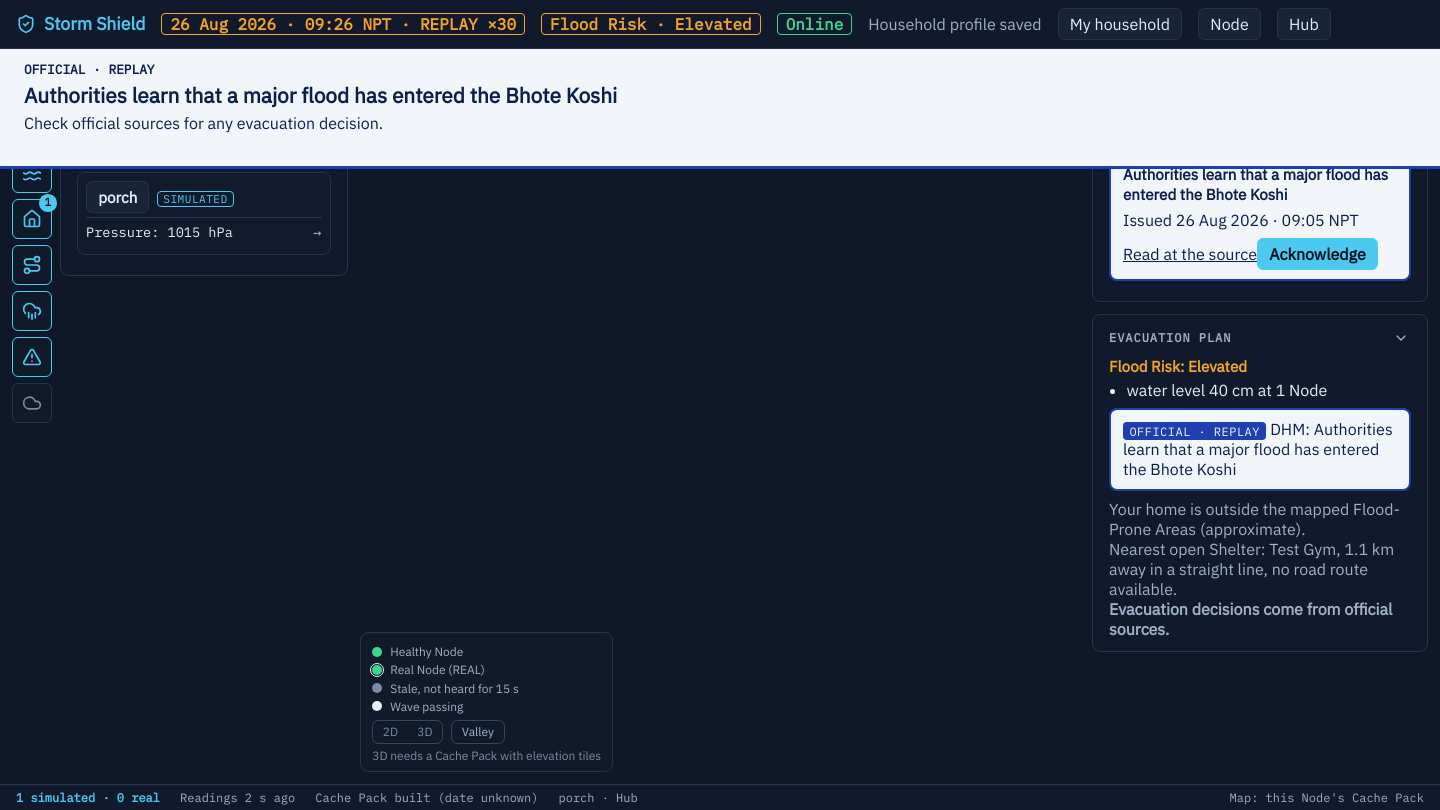
Test: on an unreachable Hub the Replay controls wait instead of offering Start
Expected: the text "Pressure: 1015 hPa" is shown, top-left (86, 223), bottom-right (233, 241)
Expected: the text "26 Aug 2026 · 09:26 NPT · REPLAY ×30" is shown, top-left (161, 13), bottom-right (525, 35)
What coordinates should you click on to do the following:
click the button "Hub"
I would click on:
 (1304, 24)
Its box is top-left (1277, 8), bottom-right (1331, 40).
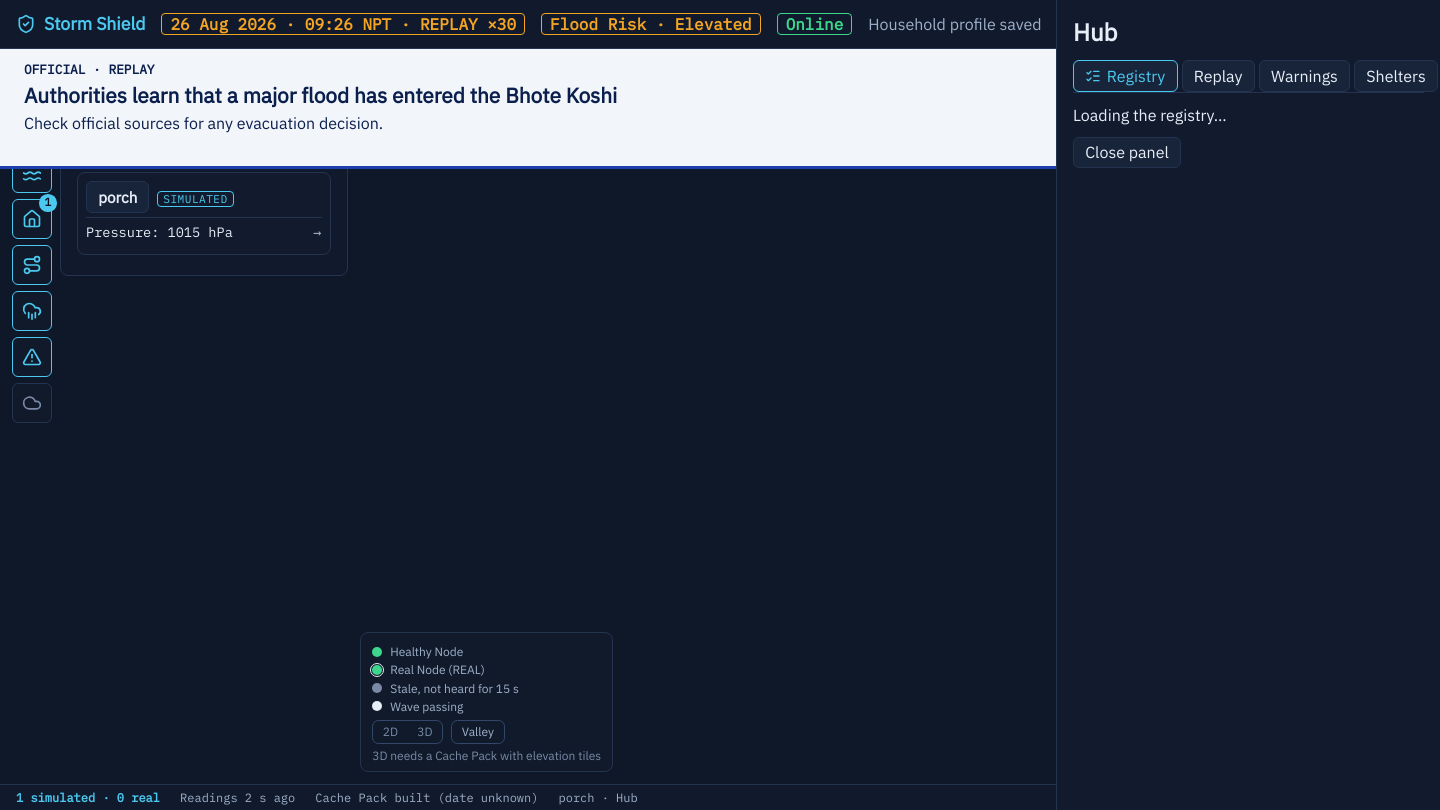
What coordinates should you click on to do the following:
click the tab "Replay"
I would click on:
 (1218, 76)
Its box is top-left (1182, 60), bottom-right (1255, 92).
Wait 6000 ms
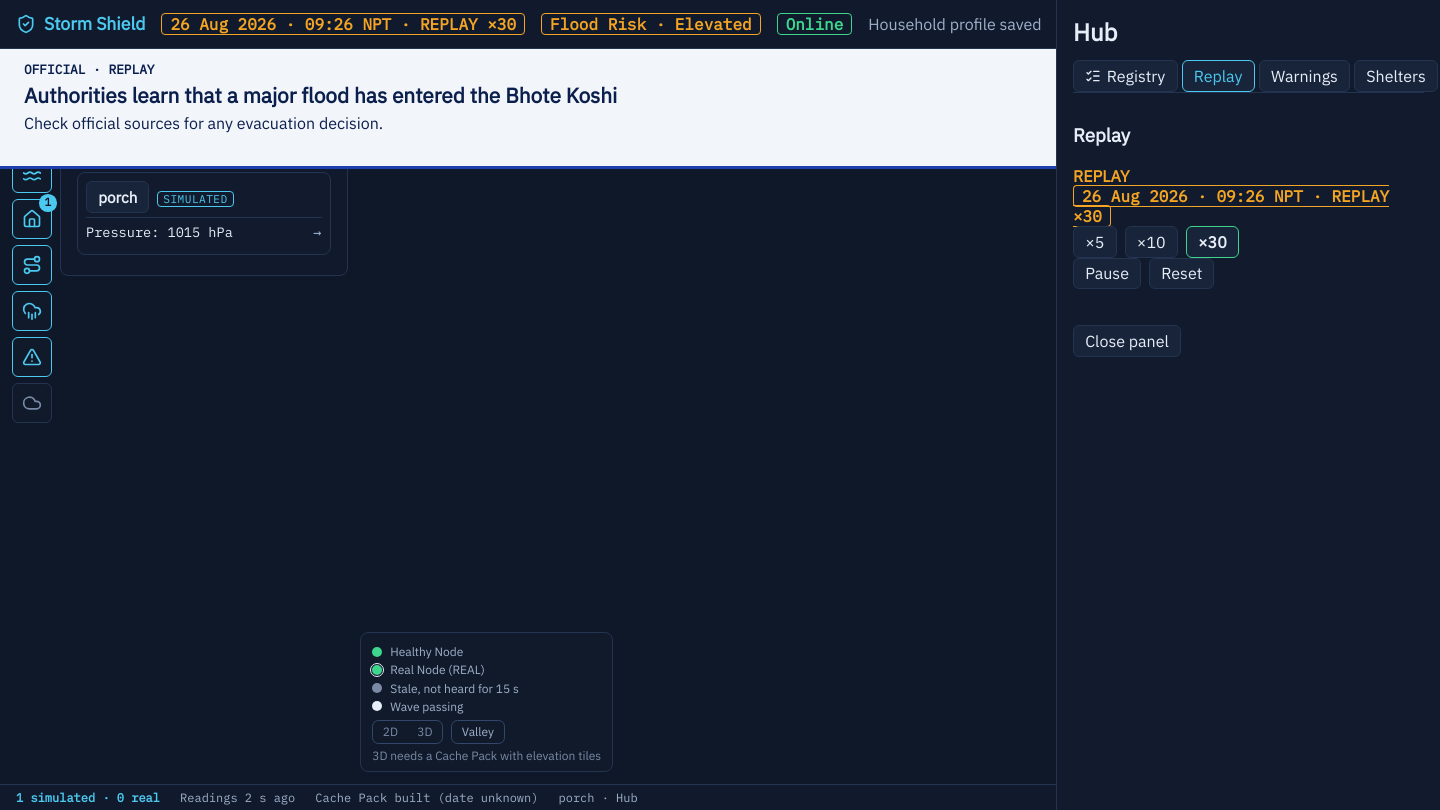
Result: the text "Waiting for the Hub to answer" is shown at top-left (1073, 166), bottom-right (1130, 186)
Result: the button "Pause" is shown at top-left (1073, 258), bottom-right (1141, 289)
